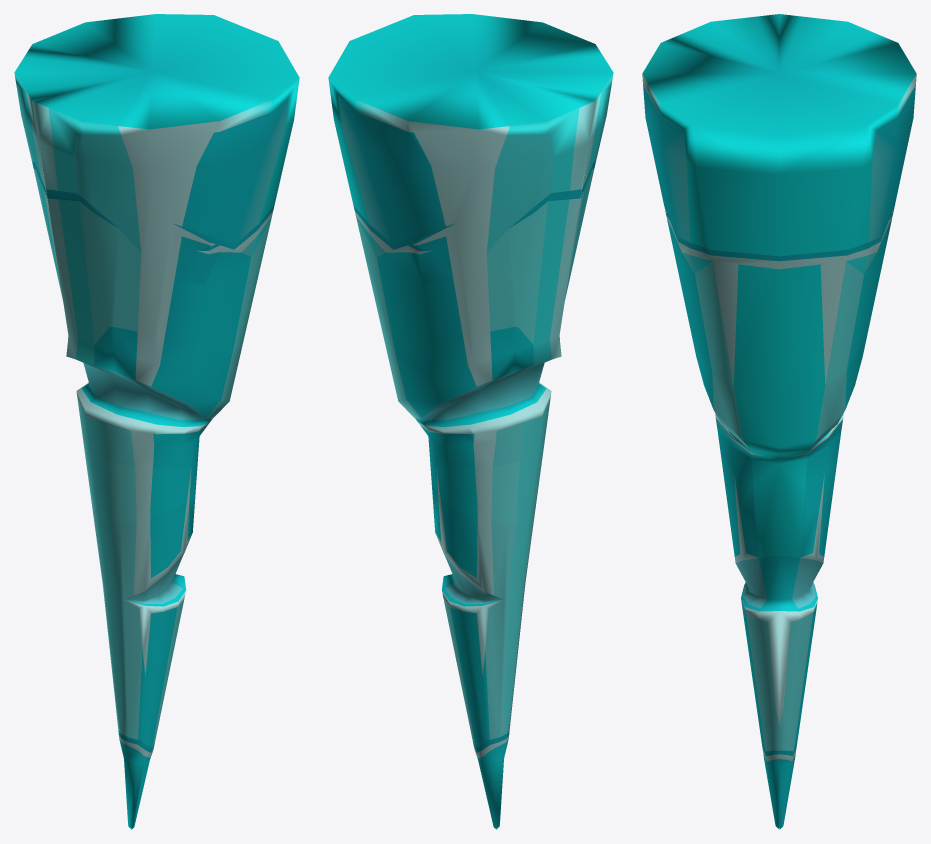
Rendered from IcicleA.glb.
The picture shows the model from 3 angles, left to right: view 1: azimuth 30°, elevation 25°; view 2: azimuth 150°, elevation 25°; view 3: azimuth 270°, elevation 25°; orthographic projection.
Visible parts, largest first — view 1: IcicleA; view 2: IcicleA; view 3: IcicleA.
Boxes of the visible parts, bbox=[...] form: IcicleA: bbox=[14, 14, 299, 829]; IcicleA: bbox=[328, 14, 613, 829]; IcicleA: bbox=[642, 14, 916, 829].
Size of the model in its own units: 0.9208 by 2.69 by 0.874.
